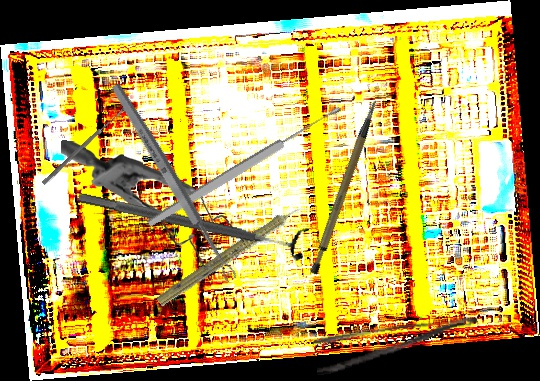Dressing Forceps: (312, 313, 482, 376)
Fixation Ring: (74, 179, 310, 264)
Handpiece: (154, 194, 315, 314)
Scalpel Handle: (287, 98, 405, 277)
Speculum: (54, 140, 249, 281)
Surgical Spoon: (108, 81, 239, 284), (143, 102, 346, 231), (41, 105, 128, 186)
